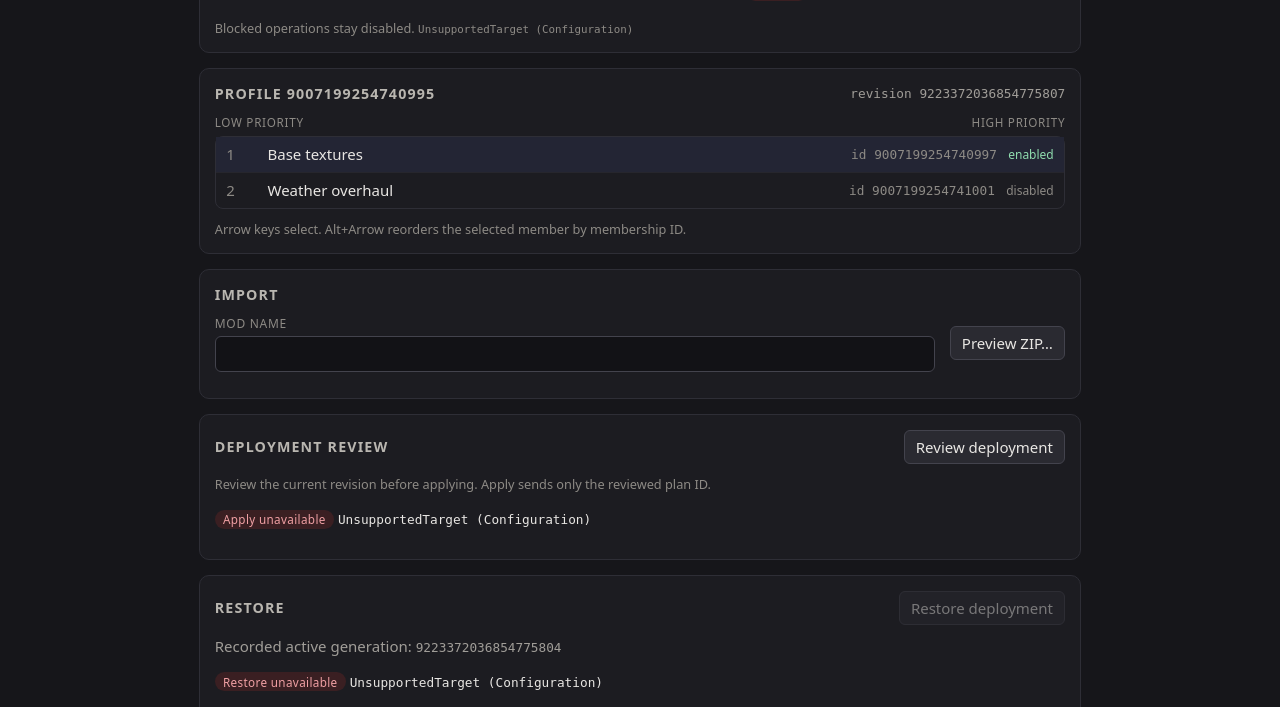
Test: workspace shell › clears a prepared import when Apply reports a stale plan
The width and height of the screenshot is (1280, 707).
(page scrolled)
Expected: the text "revision 9223372036854775807" is shown, [850,86,1065,100]
In the field labelled "Mod name": (575, 354) [215,336,935,372], type "Textures"
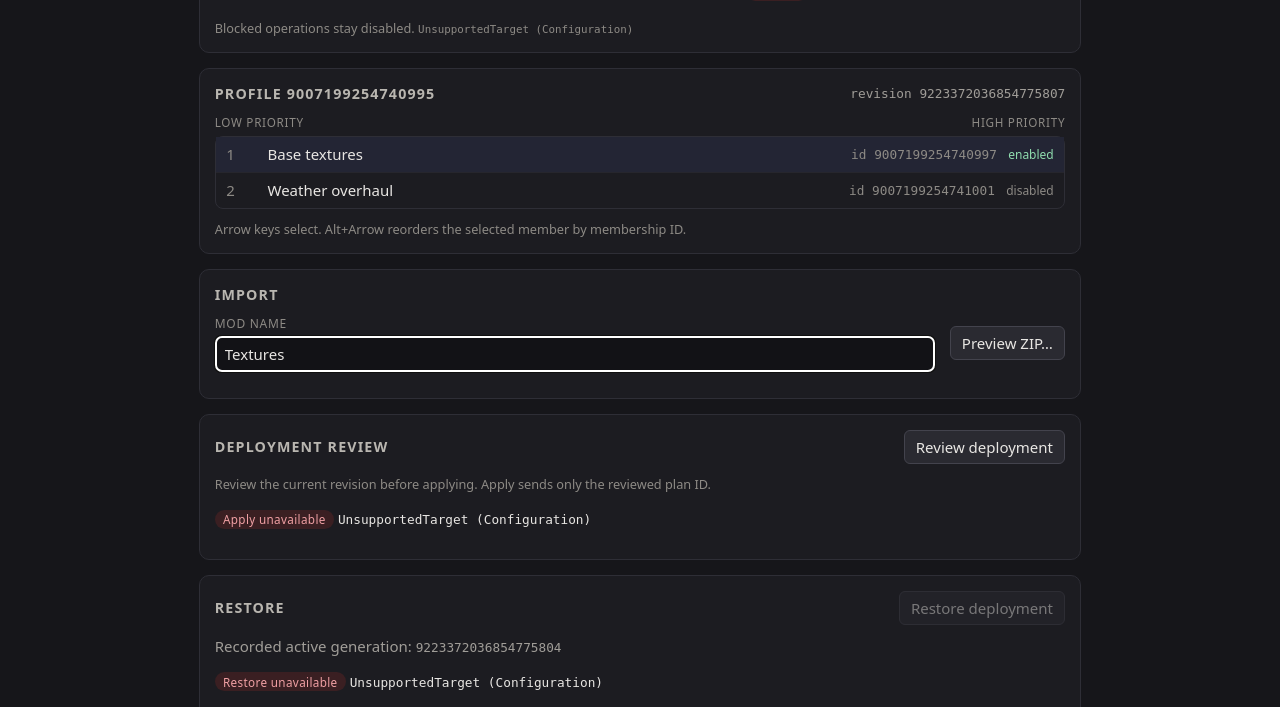
Click the button "Preview ZIP…": click(1007, 343) [950,326,1065,360]
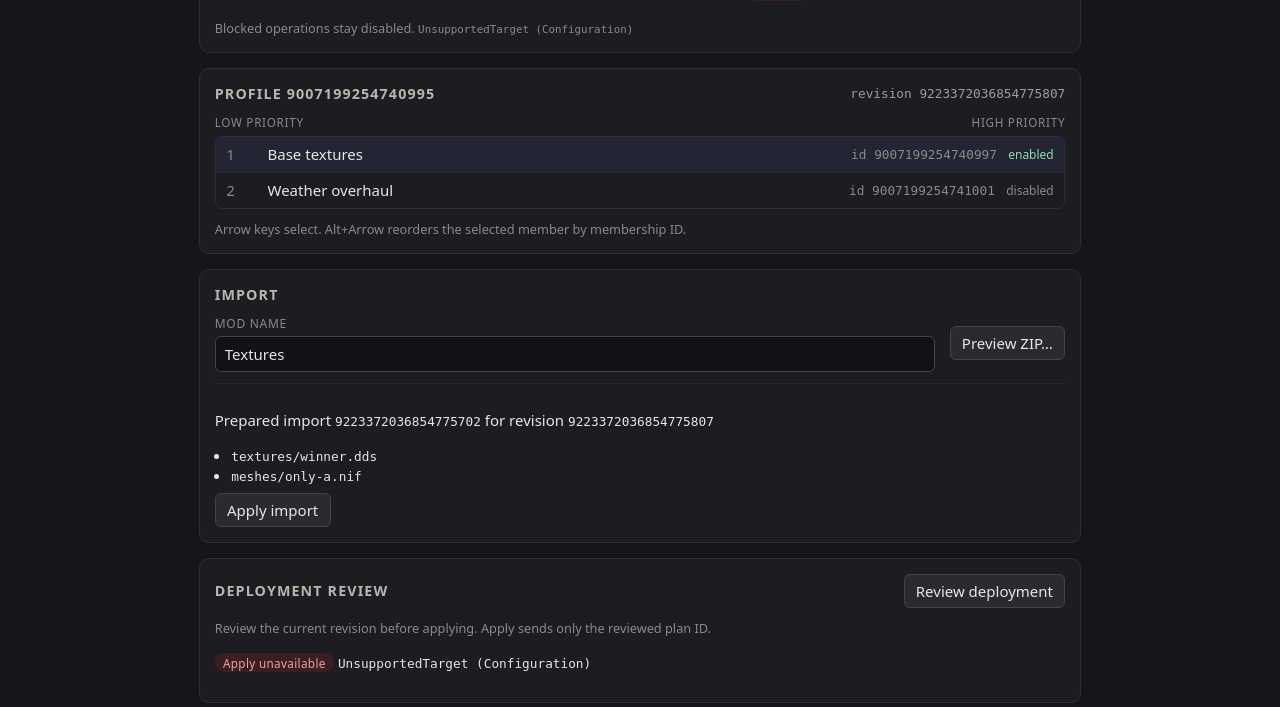
Click the button "Apply import": click(273, 510) [215,492,331,526]
(page scrolled)
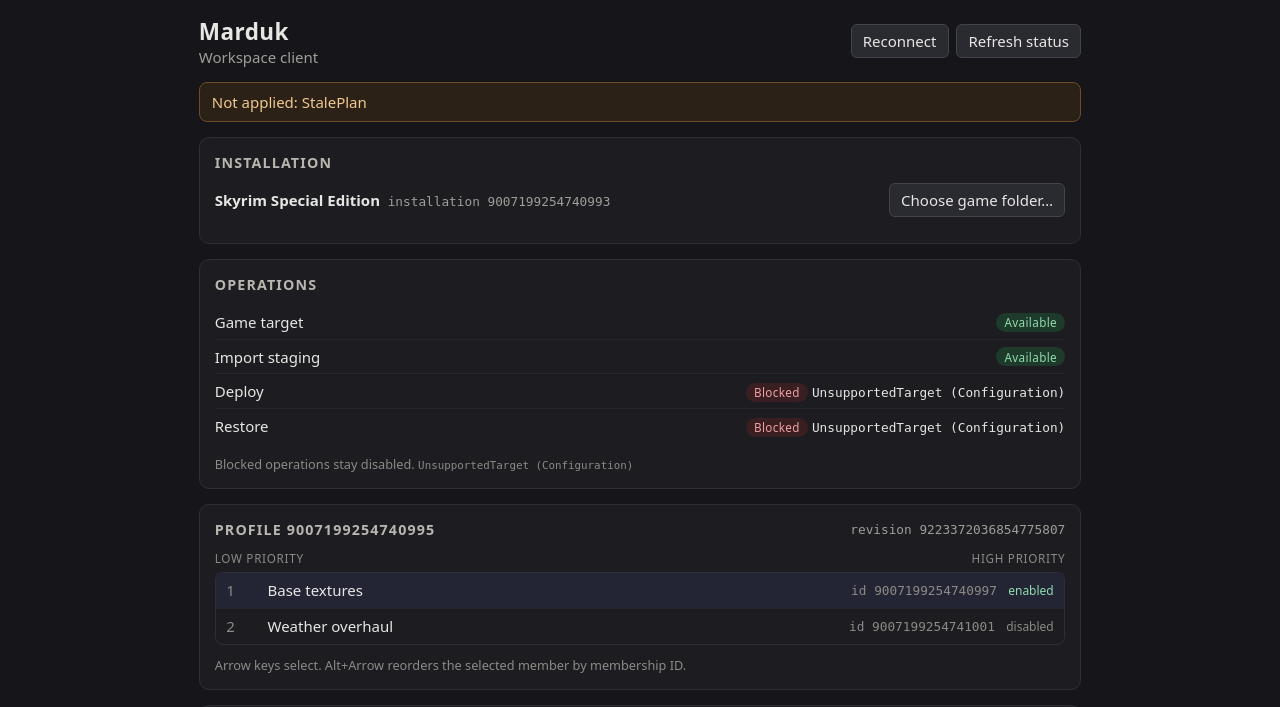
Now the text "Not applied: StalePlan" is shown, box [199,82,1081,122]
Now the button "Apply import" is gone
